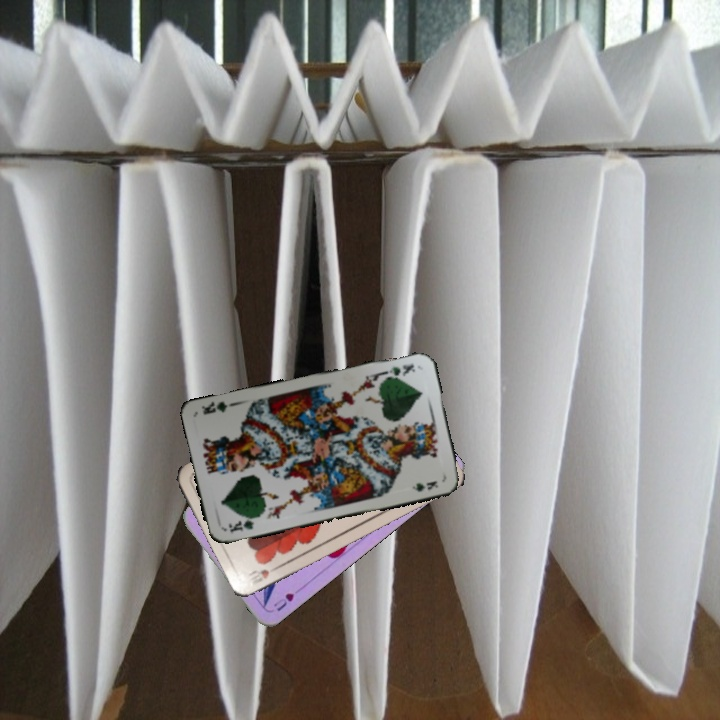GK: (224, 513, 260, 535), (380, 360, 417, 378)
H10: (244, 561, 282, 590)
HU: (269, 589, 297, 614)
